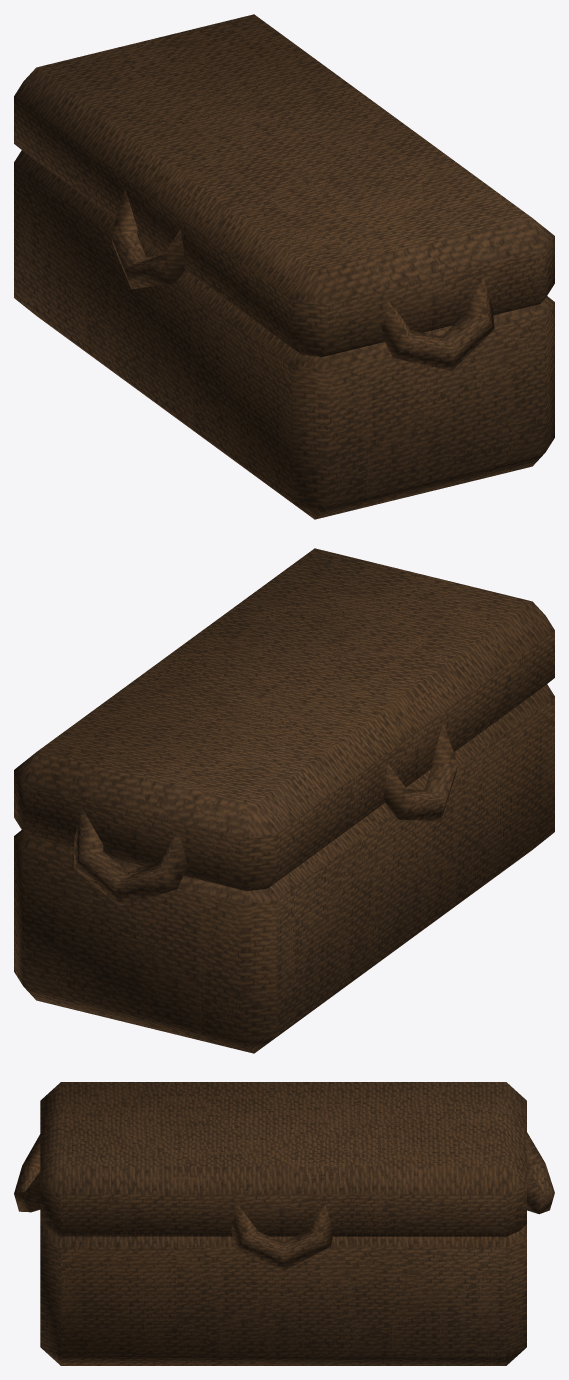
File: Tropics Wicker Crate 2x1.fbx
3 renders of one model, top to bottom at view 1: azimuth 30°, elevation 25°; view 2: azimuth 150°, elevation 25°; view 3: azimuth 270°, elevation 25°, orthographic. The views are drawn at different scales.
Parts seen in each view (by area): view 1: 2x1 Crate; view 2: 2x1 Crate; view 3: 2x1 Crate.
Boxes of the visible parts, x1,y1,x2,y2 form: 2x1 Crate: (14, 14, 554, 519); 2x1 Crate: (14, 548, 554, 1053); 2x1 Crate: (14, 1082, 554, 1365).
Size of the model in its own units: 556 by 413 by 1019.
